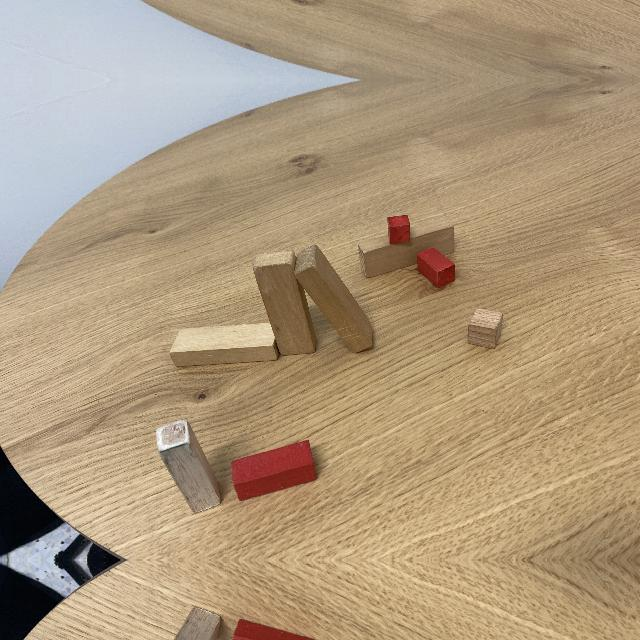block: (155, 419, 221, 515), (173, 605, 221, 640)
jenga: (294, 245, 373, 354), (253, 251, 316, 359), (358, 226, 455, 278), (169, 323, 279, 367)
red block: (231, 440, 317, 501), (232, 619, 316, 640), (417, 248, 455, 288), (468, 309, 503, 349)
red cube: (387, 215, 411, 245)
